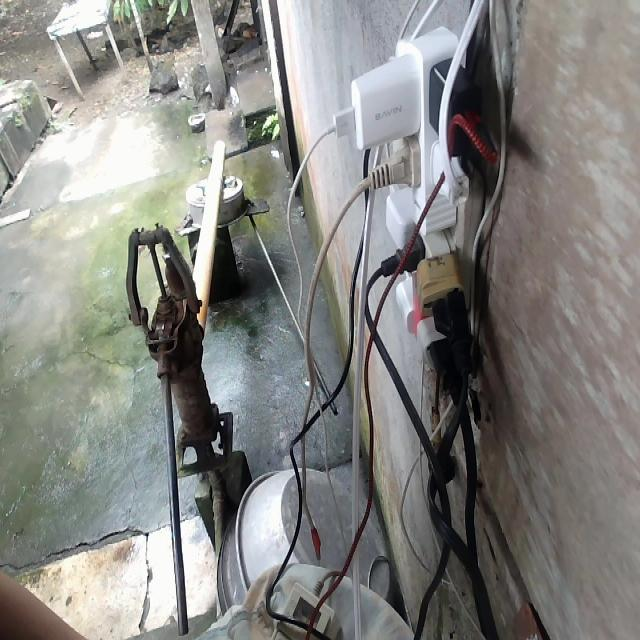-: (333, 25, 485, 398)
